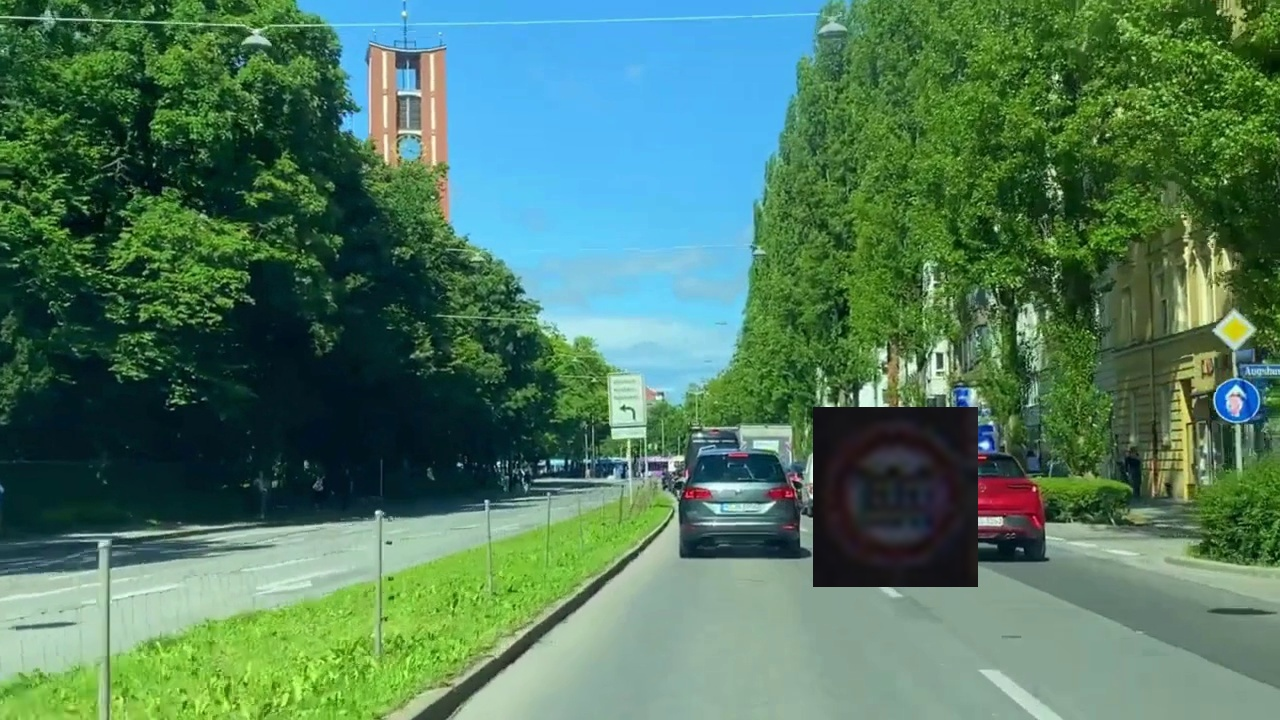Speed 100: (813, 407, 978, 587)
